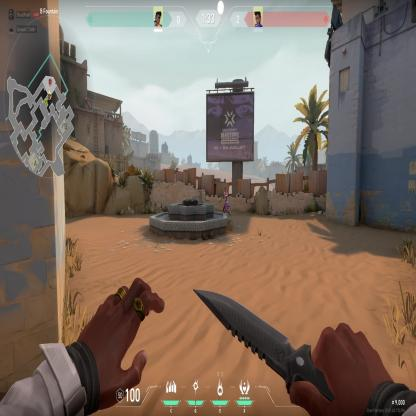enemy: (222, 187, 231, 217)
